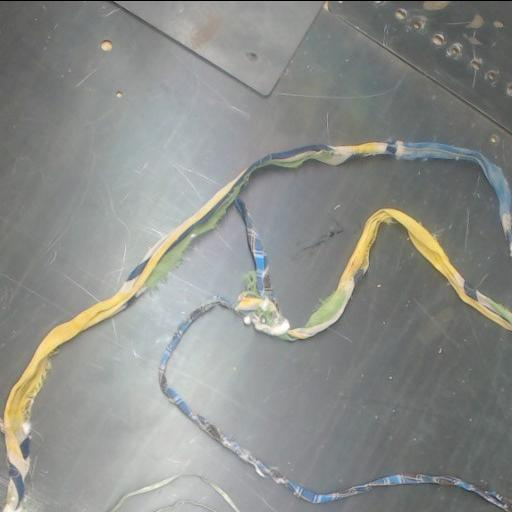cloth: (0, 140, 511, 512)
conveyor belt: (0, 1, 511, 422), (19, 204, 511, 512), (242, 148, 511, 327)
thread: (105, 475, 187, 512), (208, 481, 240, 512), (150, 500, 219, 512)
